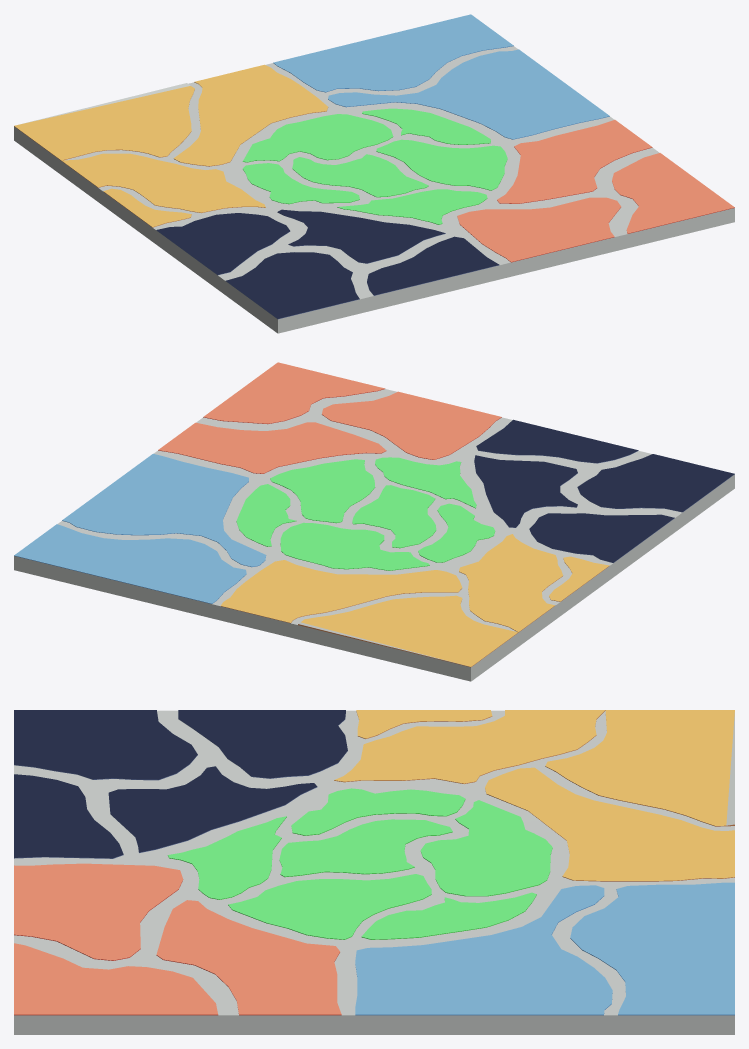
File: Ground.fbx
3 renders of one model, top to bottom at view 1: azimuth 30°, elevation 25°; view 2: azimuth 150°, elevation 25°; view 3: azimuth 270°, elevation 25°, orthographic. The views are drawn at different scales.
Parts seen in each view (by area): view 1: Ground; view 2: Ground; view 3: Ground.
Boxes of the visible parts, bbox=[...] form: Ground: bbox=[14, 14, 734, 333]; Ground: bbox=[14, 362, 734, 681]; Ground: bbox=[14, 710, 734, 1034].
Size of the model in its own units: 8163 by 263 by 8163.
